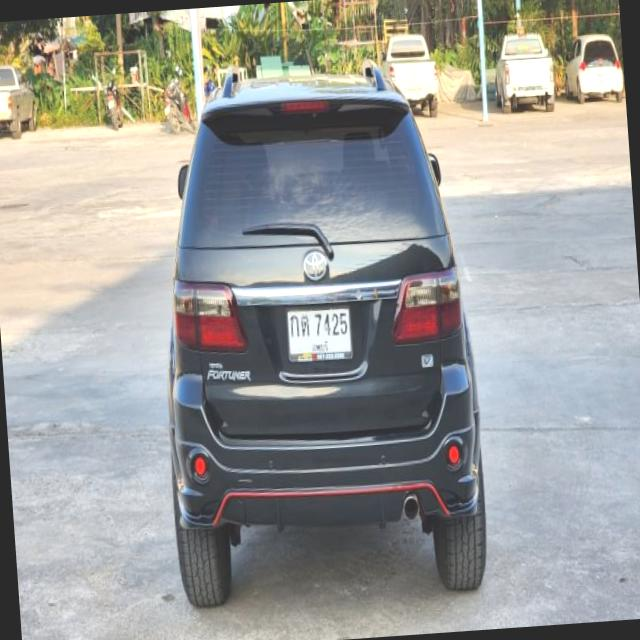license_plate: (284, 300, 354, 366)
